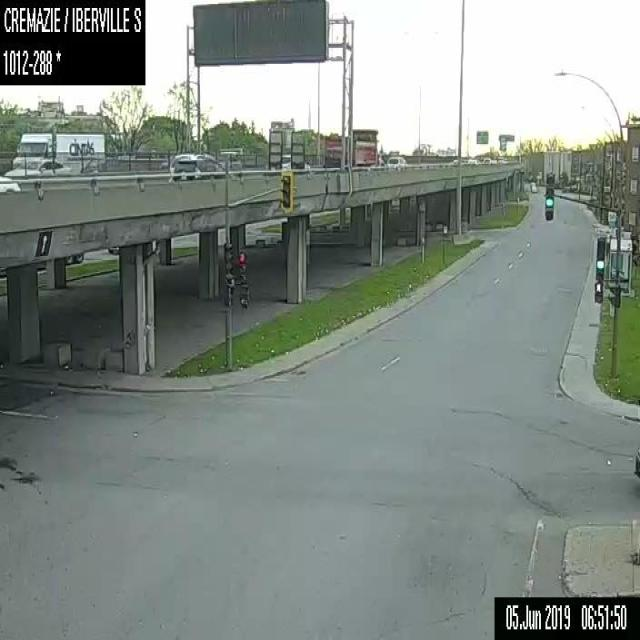vehicle: (12, 130, 105, 172), (324, 127, 384, 169), (170, 157, 232, 182), (4, 157, 71, 177), (170, 152, 214, 173), (265, 153, 309, 172), (217, 150, 241, 170), (0, 176, 21, 192), (384, 156, 406, 168), (159, 153, 173, 170), (633, 445, 639, 479), (467, 158, 478, 166), (530, 181, 537, 192), (482, 156, 491, 164), (450, 158, 458, 166)
